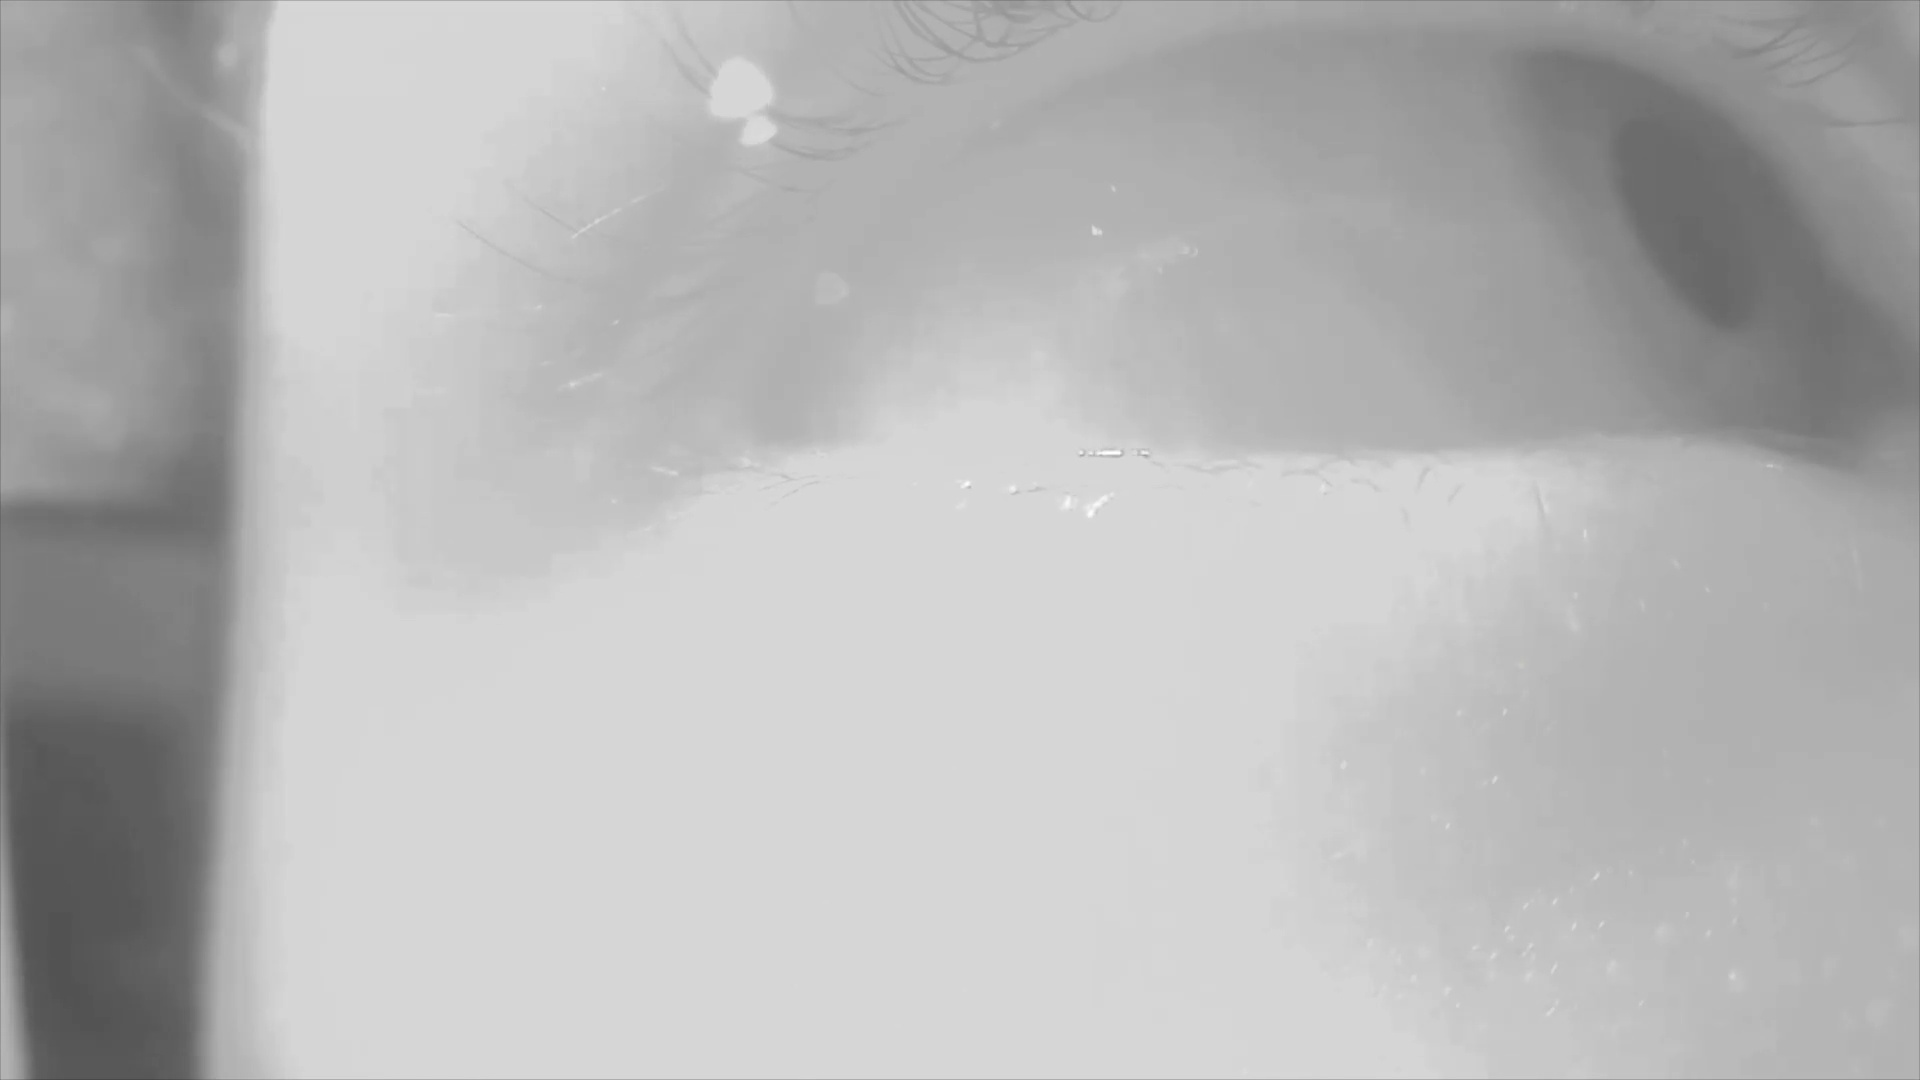pupil: (1616, 118, 1763, 330)
